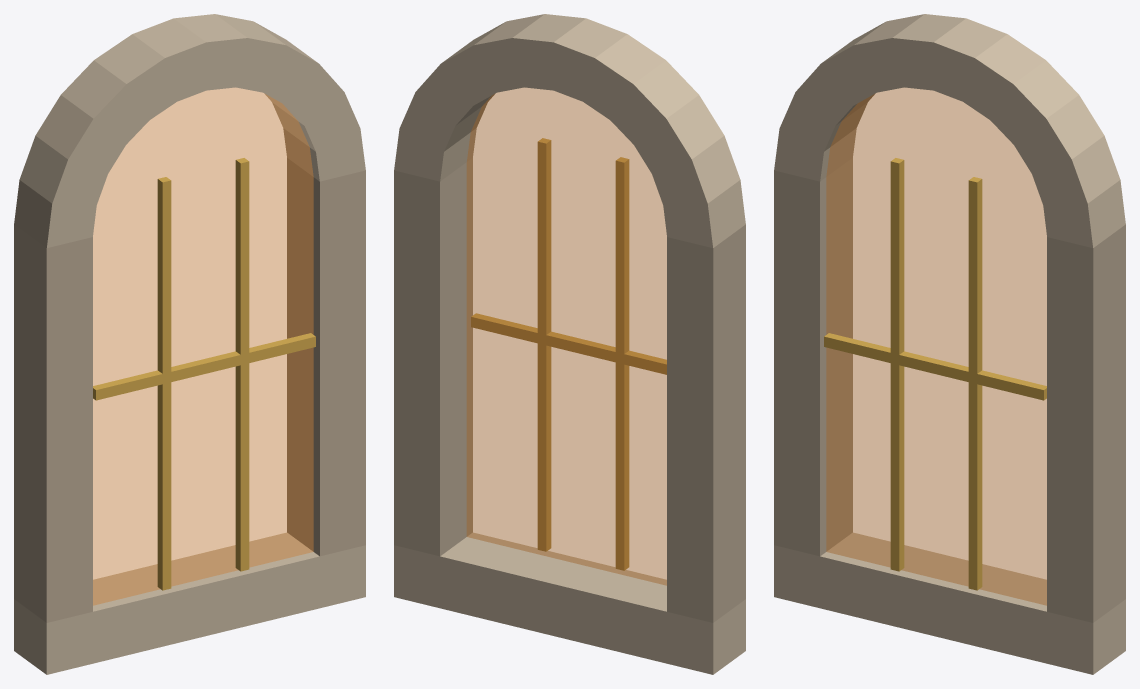
The model's file is arched-window.glb.
The picture shows the model from 3 angles, left to right: view 1: azimuth 30°, elevation 25°; view 2: azimuth 150°, elevation 25°; view 3: azimuth 330°, elevation 25°; orthographic projection.
Parts seen in each view (by area): view 1: Warm arched glazing, Carved stone window arch, Window upright, Window upright.001, Window stone sill, Window vertical gold grille, Window vertical gold grille.001, Window gold cross grille; view 2: Warm arched glazing, Carved stone window arch, Window upright, Window upright.001, Window stone sill, Window vertical gold grille, Window vertical gold grille.001, Window gold cross grille; view 3: Warm arched glazing, Carved stone window arch, Window upright.001, Window upright, Window stone sill, Window vertical gold grille, Window vertical gold grille.001, Window gold cross grille.
Boxes of the visible parts, bbox=[...] form: Warm arched glazing: bbox=[93, 87, 313, 605]; Carved stone window arch: bbox=[14, 14, 365, 247]; Window upright: bbox=[14, 224, 92, 622]; Window upright.001: bbox=[287, 158, 365, 556]; Window stone sill: bbox=[14, 532, 365, 674]; Window vertical gold grille: bbox=[157, 177, 171, 590]; Window vertical gold grille.001: bbox=[235, 158, 249, 571]; Window gold cross grille: bbox=[93, 333, 315, 400]; Warm arched glazing: bbox=[466, 87, 666, 585]; Carved stone window arch: bbox=[394, 14, 745, 247]; Window upright: bbox=[667, 224, 745, 622]; Window upright.001: bbox=[394, 158, 472, 556]; Window stone sill: bbox=[394, 532, 745, 674]; Window vertical gold grille: bbox=[615, 157, 629, 570]; Window vertical gold grille.001: bbox=[537, 138, 551, 551]; Window gold cross grille: bbox=[471, 313, 666, 374]; Warm arched glazing: bbox=[826, 87, 1046, 605]; Carved stone window arch: bbox=[774, 14, 1125, 247]; Window upright.001: bbox=[1047, 224, 1125, 622]; Window upright: bbox=[774, 158, 852, 556]; Window stone sill: bbox=[774, 532, 1125, 674]; Window vertical gold grille: bbox=[890, 158, 904, 571]; Window vertical gold grille.001: bbox=[968, 177, 982, 590]; Window gold cross grille: bbox=[824, 333, 1046, 400].
Size of the model in its own units: 0.45 by 0.8 by 0.08.
